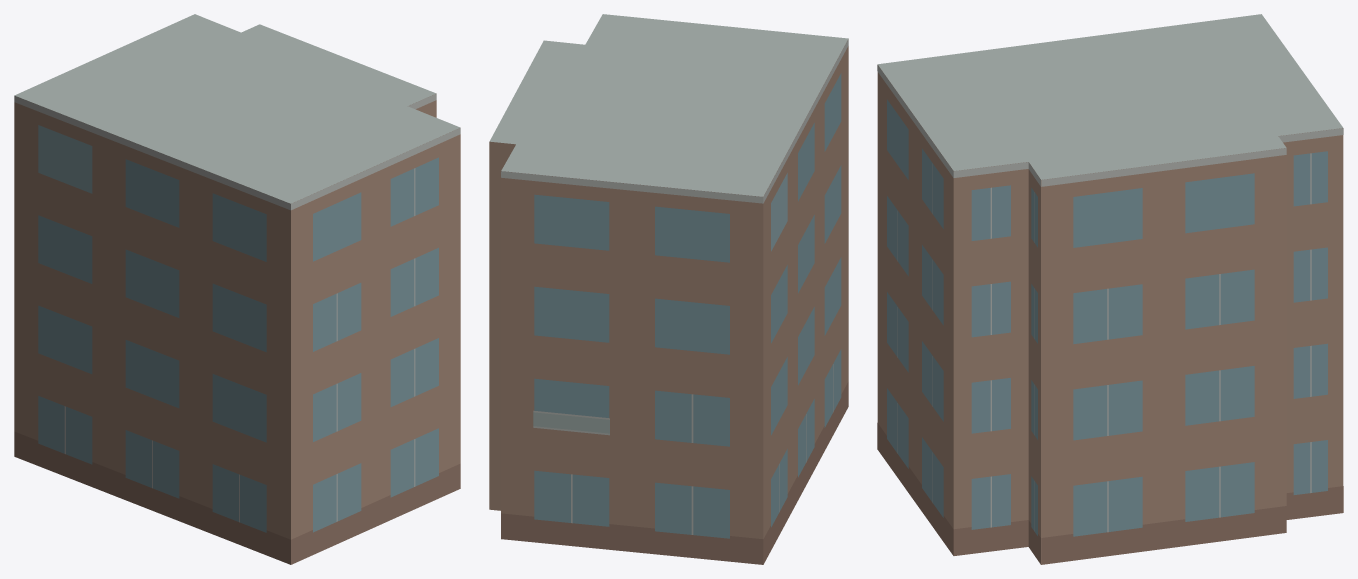
File: survey-upis-32622862.glb
3 views of the same model, side by side, from view 1: azimuth 30°, elevation 25°; view 2: azimuth 150°, elevation 25°; view 3: azimuth 270°, elevation 25° (orthographic). The views are drawn at different scales.
Visible parts, largest first — view 1: survey-upis-32622862.tmp; view 2: survey-upis-32622862.tmp; view 3: survey-upis-32622862.tmp.
Part boxes in pixels (box(x1,y1,x2,y2)): survey-upis-32622862.tmp: box(14, 14, 460, 564); survey-upis-32622862.tmp: box(489, 14, 848, 564); survey-upis-32622862.tmp: box(877, 14, 1343, 564).
Size of the model in its own units: 12.3 by 13.3 by 14.6.
